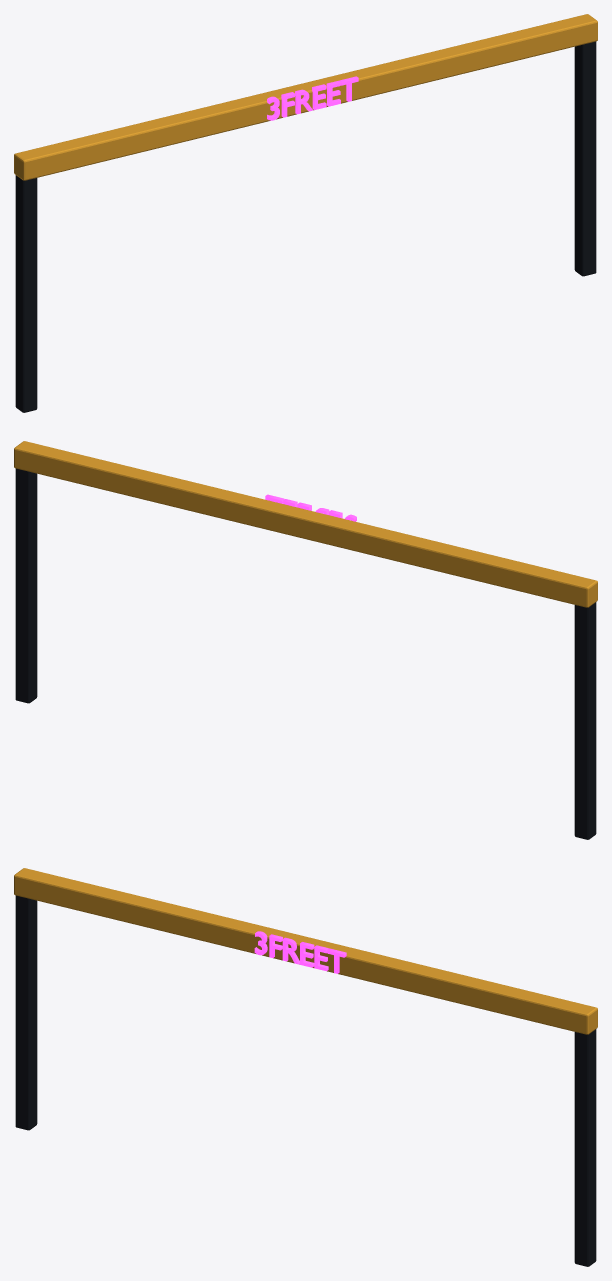
Rendered from StartFinish.fbx.
3 renders of one model, top to bottom at view 1: azimuth 30°, elevation 25°; view 2: azimuth 150°, elevation 25°; view 3: azimuth 330°, elevation 25°, orthographic.
Parts seen in each view (by area): view 1: StartFinish; view 2: StartFinish; view 3: StartFinish.
Part boxes in pixels (x1=…): StartFinish: x1=14, y1=14, x2=597, y2=412; StartFinish: x1=14, y1=441, x2=597, y2=839; StartFinish: x1=14, y1=868, x2=597, y2=1266.
Size of the model in its own units: 11 by 4.7 by 0.4188.
